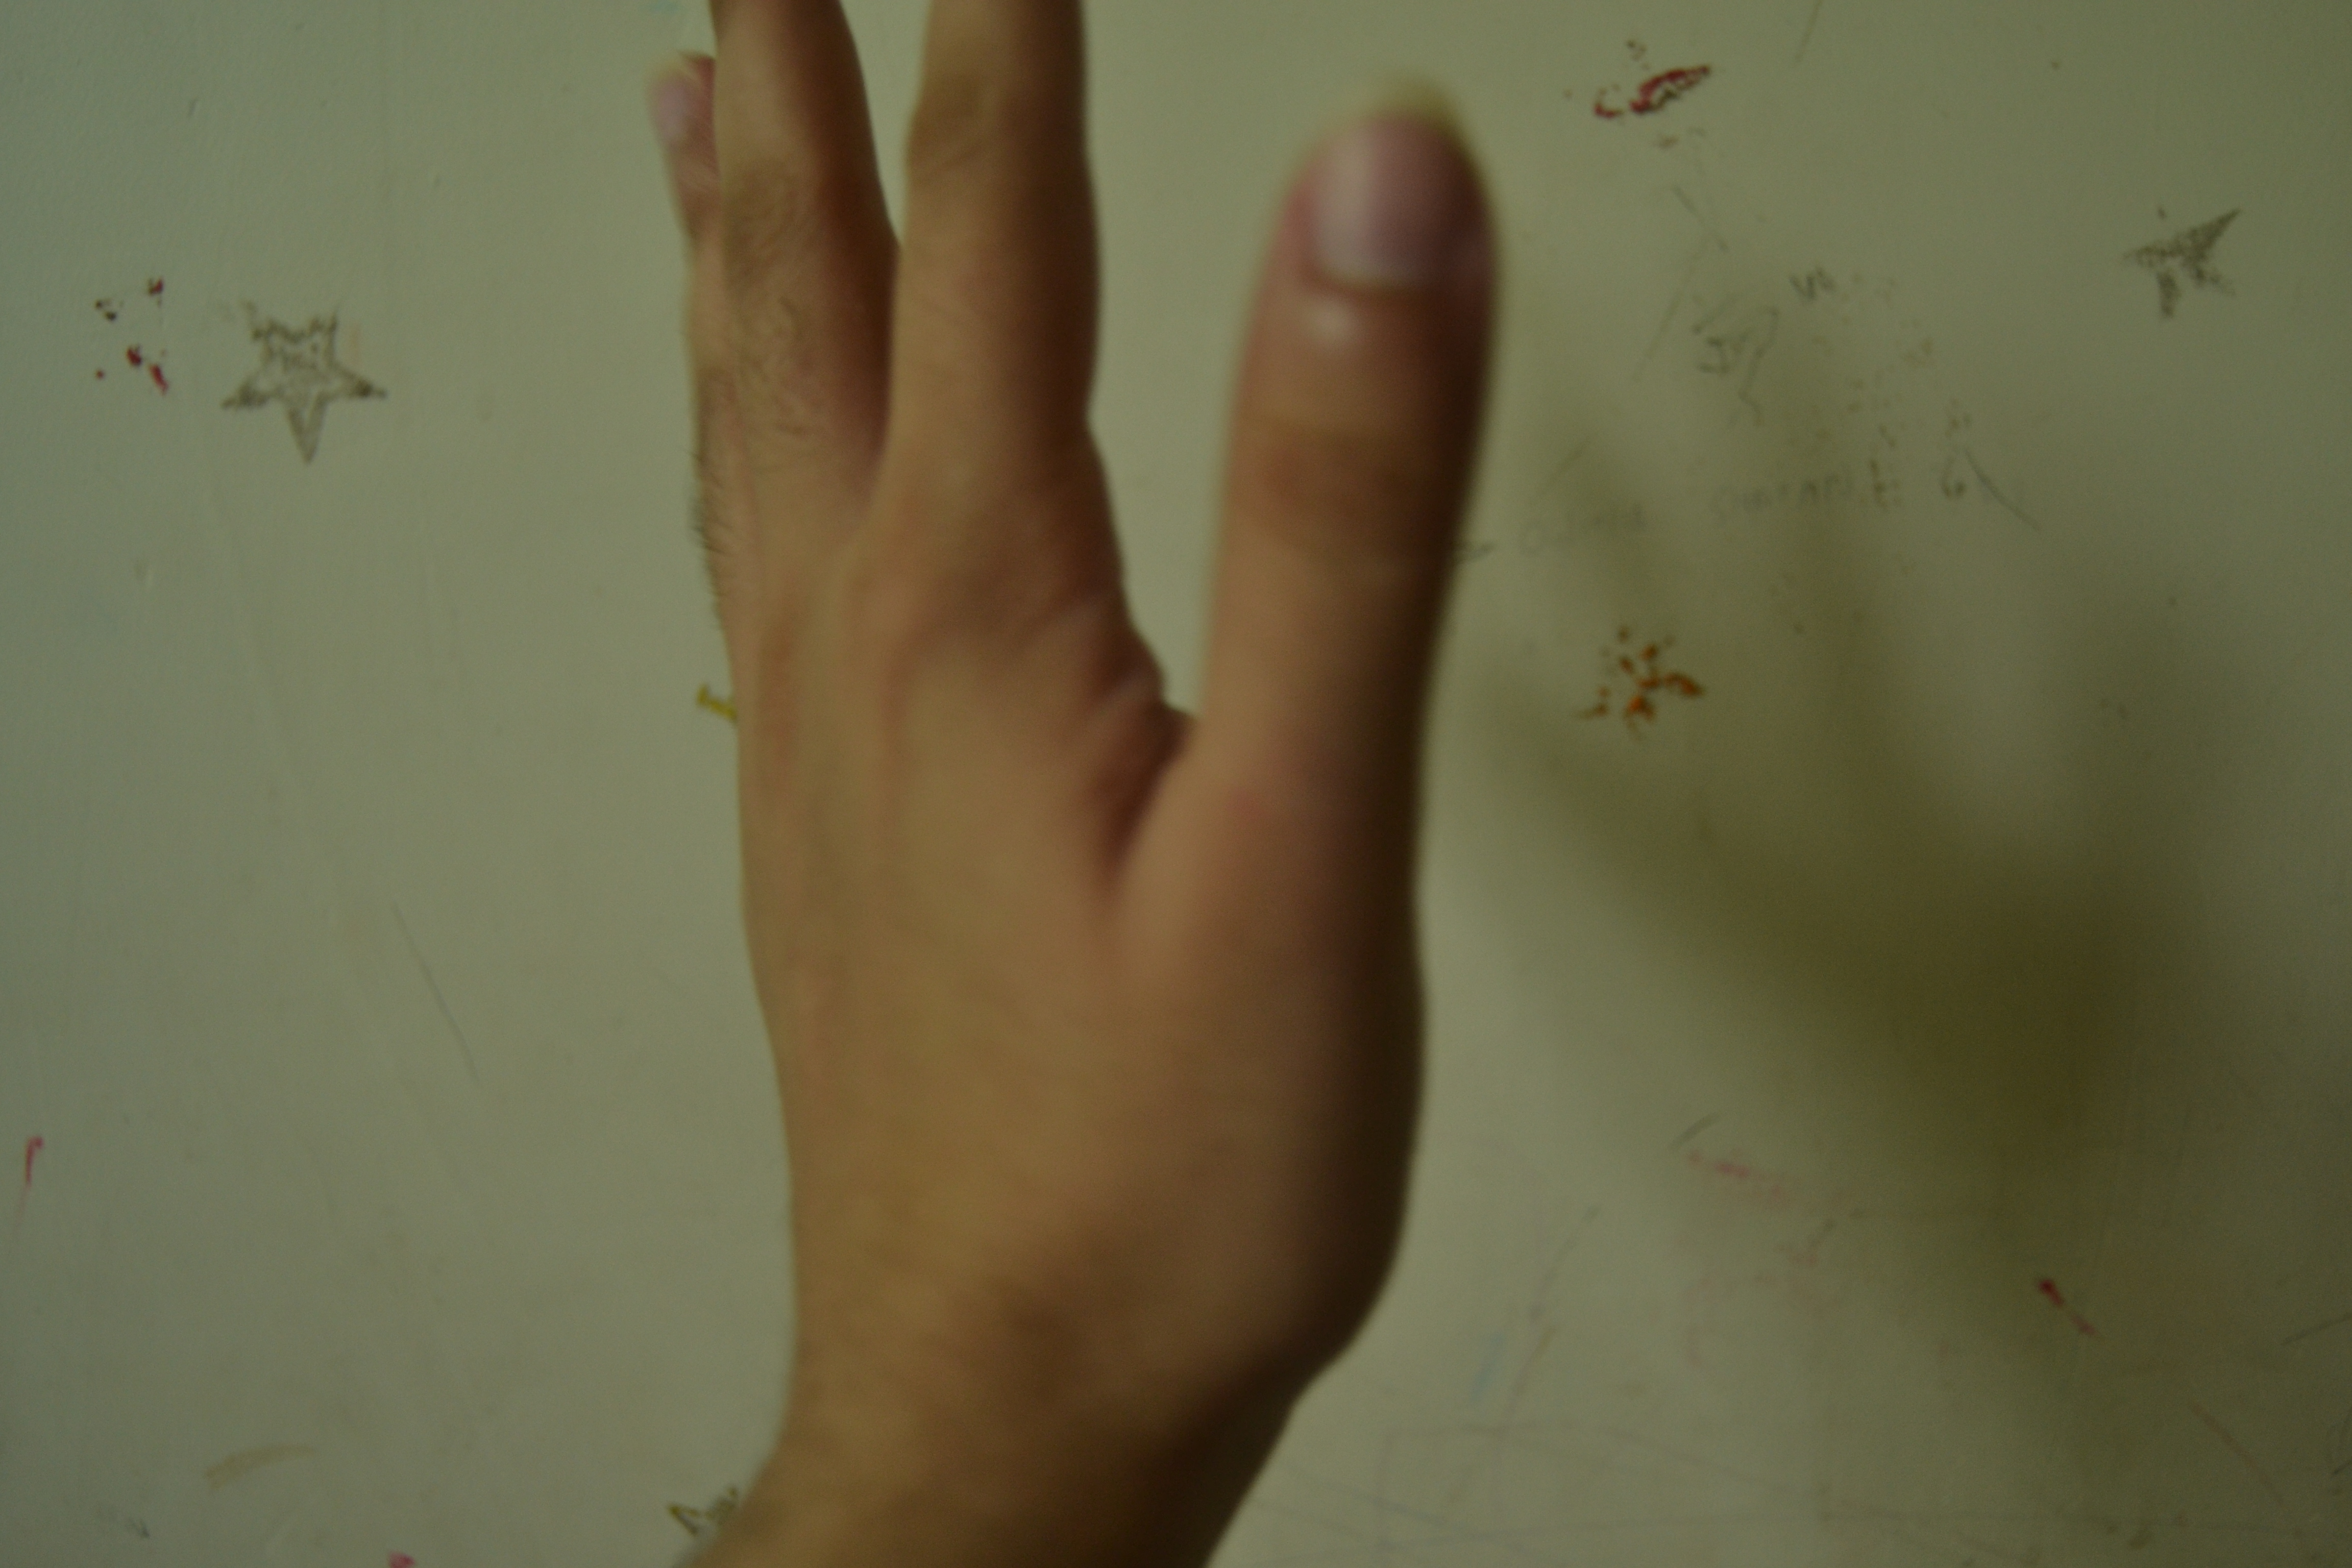move: (549, 33, 1547, 1430)
